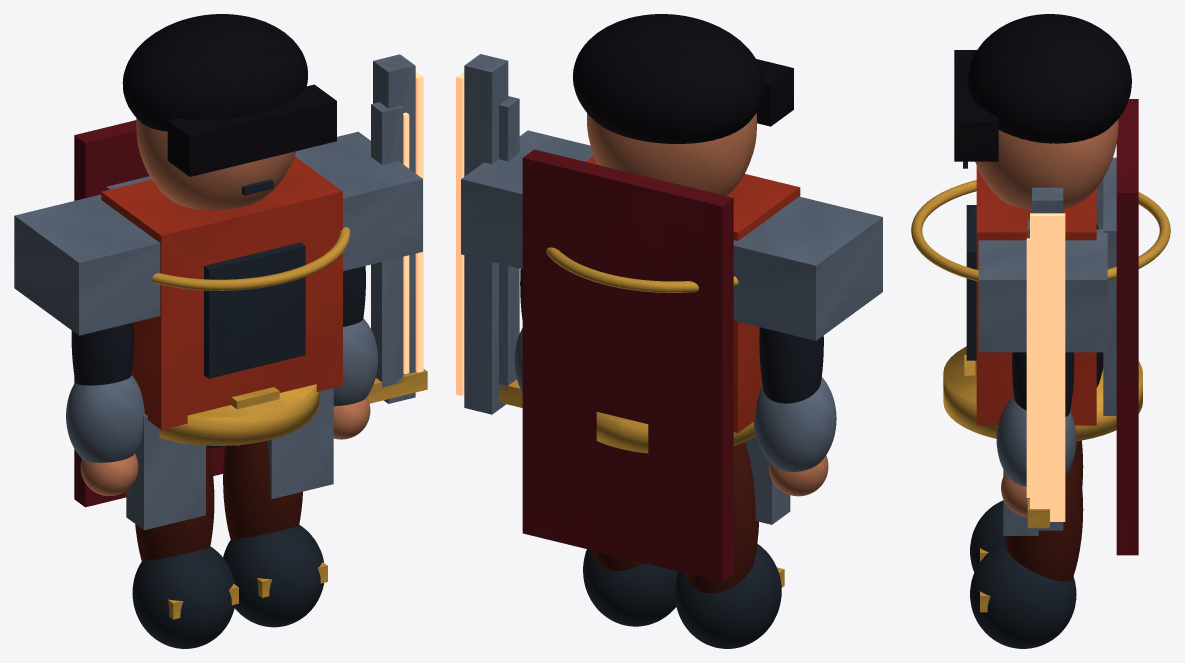
The model's file is Advanced.glb.
3 renders of one model, left to right at view 1: azimuth 30°, elevation 25°; view 2: azimuth 150°, elevation 25°; view 3: azimuth 270°, elevation 25°, orthographic. The views are drawn at different scales.
Visible parts, largest first — view 1: ChestPlate, Hair, SegmentedPauldron, ChestInset, SegmentedPauldron.001, HairFringe, Boot, Boot.001, Tasset, Head, SwordBlade, Gauntlet (+16 smaller); view 2: Cape, Hair, SegmentedPauldron, Greatsword, SegmentedPauldron.001, Head, Boot, ChestPlate, Gauntlet, Boot.001, Arm, SwordBlade (+7 smaller); view 3: Hair, GreatswordEdge, SegmentedPauldron.001, Cape, ChestPlate, Boot.001, Head, Leg.001, WaistGuard, HairFringe, ShoulderCrest, BackArmor (+9 smaller).
Part boxes in pixels (x1,y1,x2,y2): ChestPlate: (101,156,342,429); Hair: (122,14,307,131); SegmentedPauldron: (14,194,160,335); ChestInset: (204,242,305,378); SegmentedPauldron.001: (295,131,422,271); HairFringe: (167,84,336,176); Boot: (132,546,235,648); Boot.001: (223,525,323,627); Tasset: (126,414,205,530); Head: (136,118,295,210); SwordBlade: (371,102,403,387); Gauntlet: (66,375,144,462); Cape: (522,149,733,581); Hair: (573,14,763,143); SegmentedPauldron: (733,196,882,340); Greatsword: (464,54,508,414); SegmentedPauldron.001: (461,130,593,269); Head: (587,113,757,196); Boot: (674,544,781,648); ChestPlate: (585,156,800,432); Gauntlet: (754,377,836,471); Boot.001: (583,549,678,626); Arm: (759,327,823,403); SwordBlade: (499,96,519,390); Hair: (967,14,1131,143); GreatswordEdge: (1030,213,1065,521); SegmentedPauldron.001: (978,229,1107,352); Cape: (1116,99,1138,555); ChestPlate: (976,166,1096,425); Boot.001: (970,542,1076,648); Head: (975,119,1118,210); Leg.001: (1004,451,1083,581); WaistGuard: (943,346,1142,441); HairFringe: (954,50,998,161); ShoulderCrest: (911,180,1170,281); BackArmor: (1103,157,1116,415).
Size of the model in its own units: 1.93 by 2.96 by 1.17.
12 materials, 9 textured.
